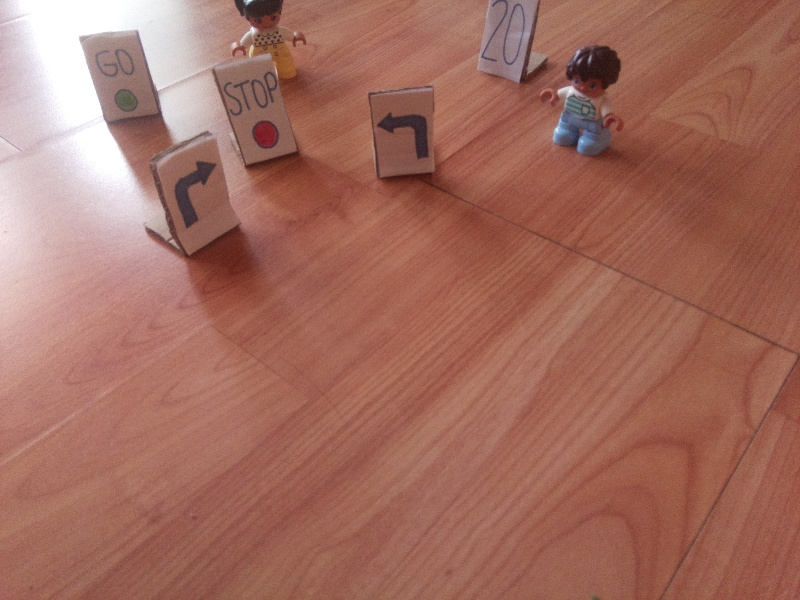20: (480, 1, 528, 70)
go: (92, 42, 144, 113)
person: (550, 41, 629, 159), (228, 1, 306, 60)
stop: (221, 72, 285, 154)
turn left: (376, 109, 435, 162)
turn right: (169, 157, 218, 231)
